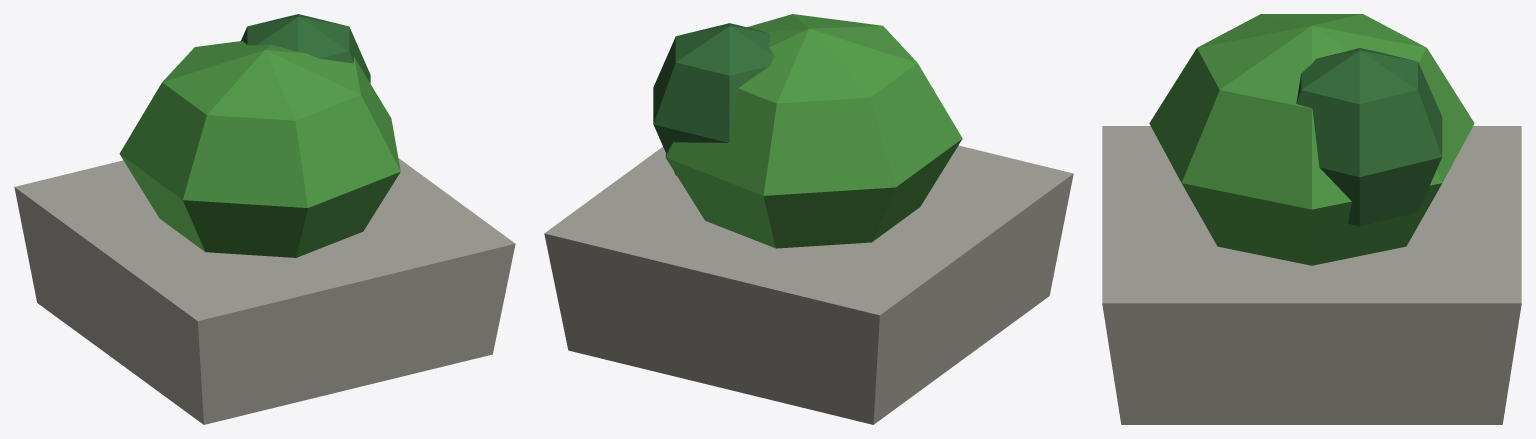
Rendered from planter.glb.
3 renders of one model, left to right at view 1: azimuth 30°, elevation 25°; view 2: azimuth 150°, elevation 25°; view 3: azimuth 270°, elevation 25°, orthographic. The views are drawn at different scales.
Parts seen in each view (by area): view 1: planter_Body; view 2: planter_Body; view 3: planter_Body.
Boxes of the visible parts, bbox=[...] form: planter_Body: bbox=[14, 14, 515, 424]; planter_Body: bbox=[544, 14, 1073, 424]; planter_Body: bbox=[1102, 14, 1521, 424].
Bounding box in the file's own units: 1.76 × 1.5 × 1.76.
